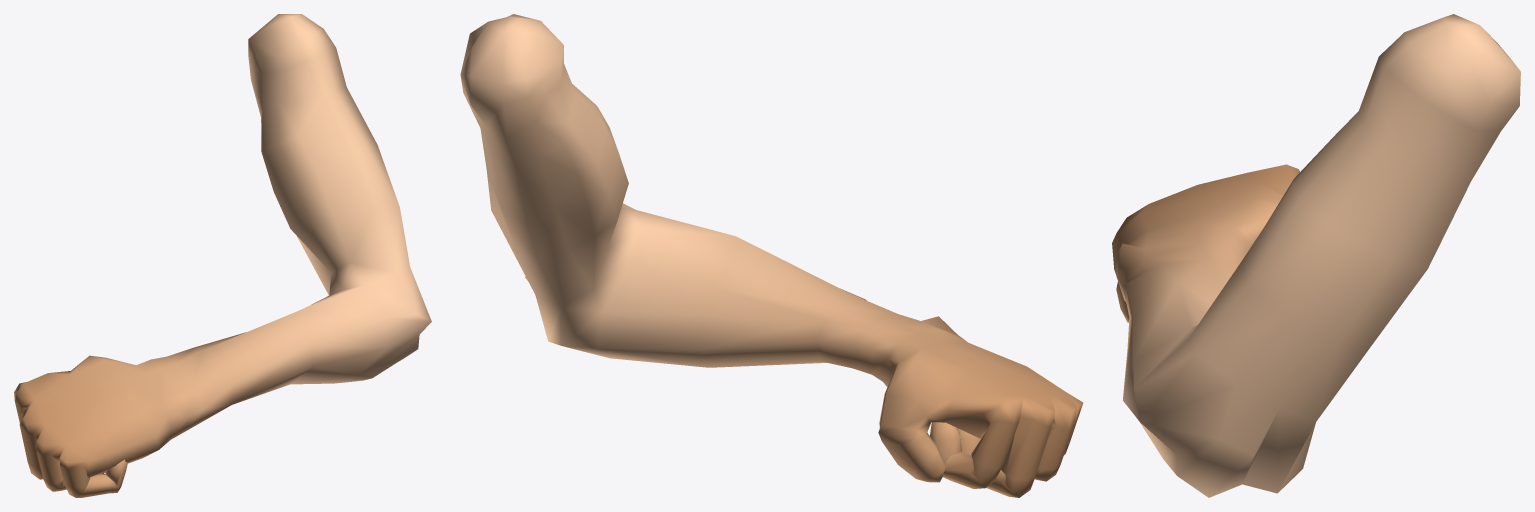
Rendered from Arm2.fbx.
3 renders of one model, left to right at view 1: azimuth 30°, elevation 25°; view 2: azimuth 150°, elevation 25°; view 3: azimuth 270°, elevation 25°, orthographic. The views are drawn at different scales.
Visible parts, largest first — view 1: Arm_Mesh_R1; view 2: Arm_Mesh_R1; view 3: Arm_Mesh_R1.
Boxes of the visible parts, x1,y1,x2,y2 form: Arm_Mesh_R1: [14, 14, 431, 497]; Arm_Mesh_R1: [460, 14, 1083, 497]; Arm_Mesh_R1: [1112, 14, 1520, 497].
Size of the model in its own units: 1.11 by 0.8967 by 0.6462.
1 material, 1 textured.
